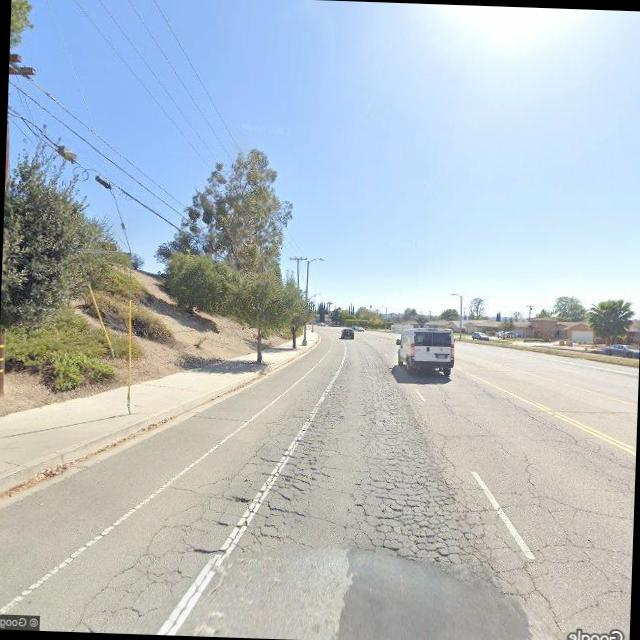crack: (90, 374, 638, 601)
